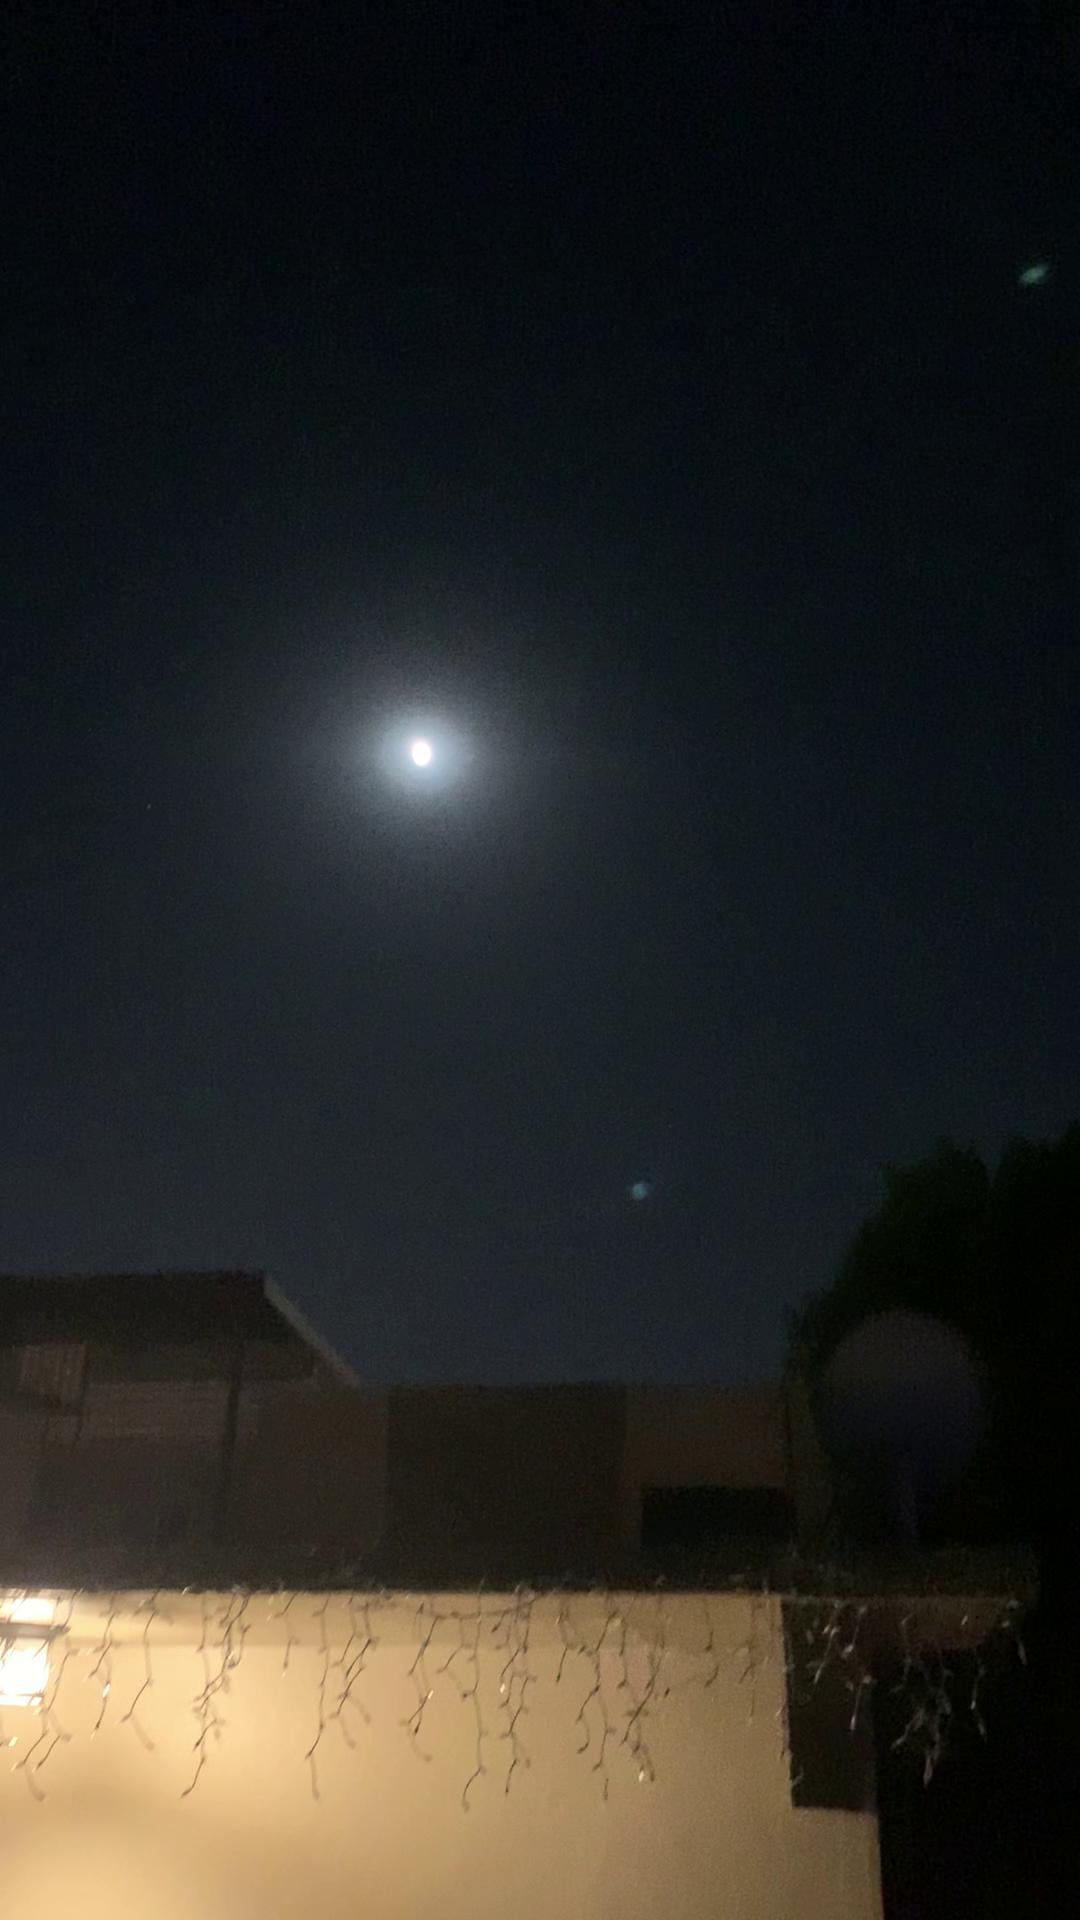moon: (381, 711, 468, 790)
